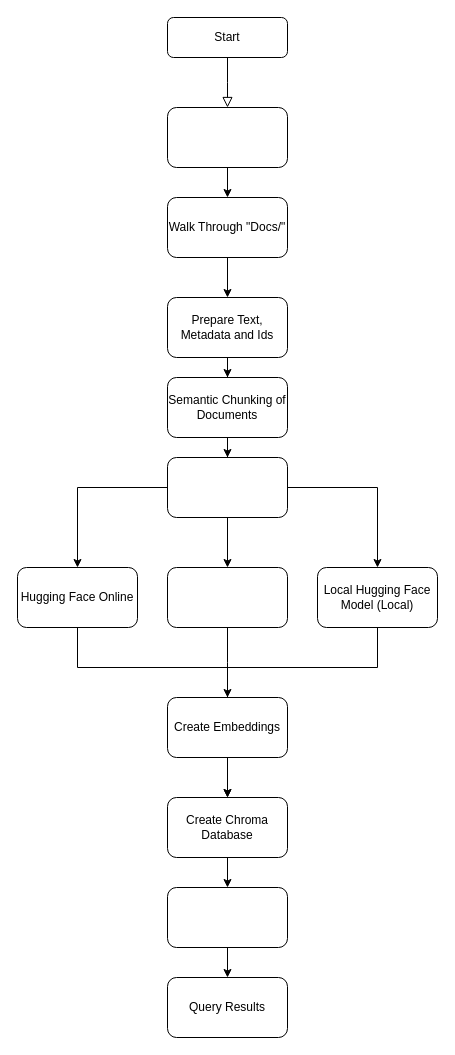
Image size: 455x1055. Some labels were removed from this diagram. Here are the shapes that lost their labels. From the top down, the box of each, then its label:
(166, 106, 288, 168): Check Vector data base folder
(166, 456, 288, 518): Choose Model for the embeddings and Chroma database
(166, 566, 288, 628): Google Generative Ai
(166, 886, 288, 948): Add Embedded Chunks to the Vector Database
